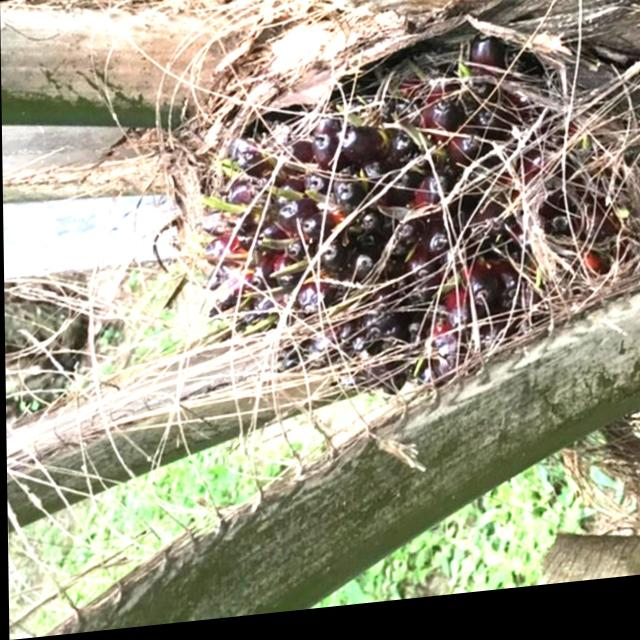ripe: (146, 5, 621, 438)
